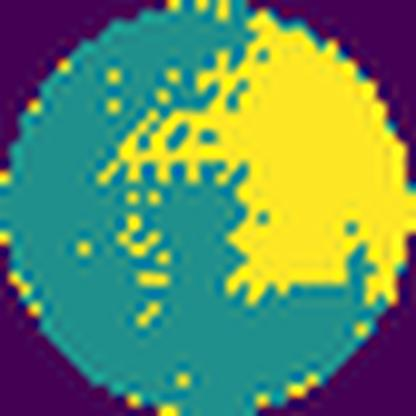Edge-Loc: (99, 10, 415, 304)
